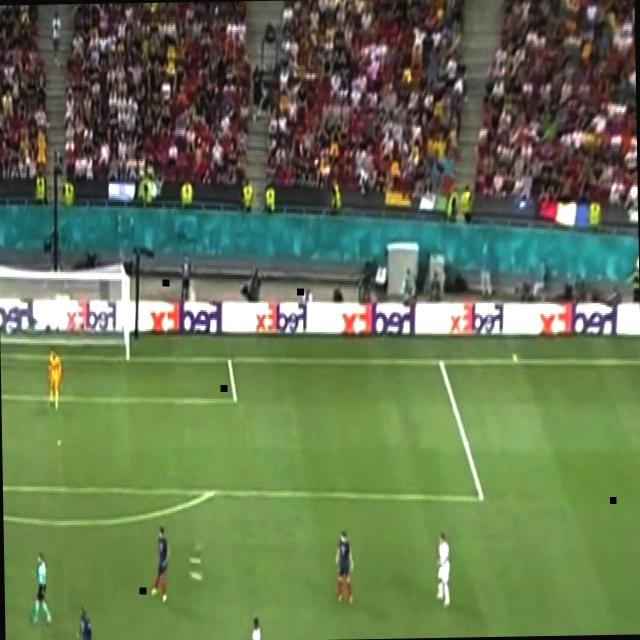player-white: (27, 548, 55, 632), (332, 525, 356, 608), (432, 526, 454, 612), (148, 524, 170, 608), (46, 342, 66, 416), (74, 601, 95, 640), (242, 612, 265, 640)
